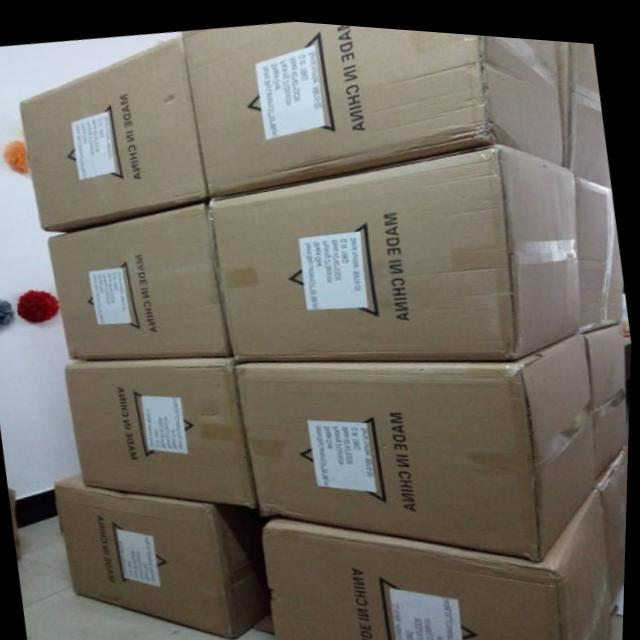box: (211, 137, 586, 359), (242, 325, 600, 551), (180, 17, 564, 195), (265, 479, 618, 640), (18, 33, 211, 232), (60, 471, 270, 637), (46, 199, 233, 358), (70, 354, 257, 504), (553, 32, 612, 175), (582, 314, 631, 482), (579, 165, 626, 329), (598, 437, 631, 595)
